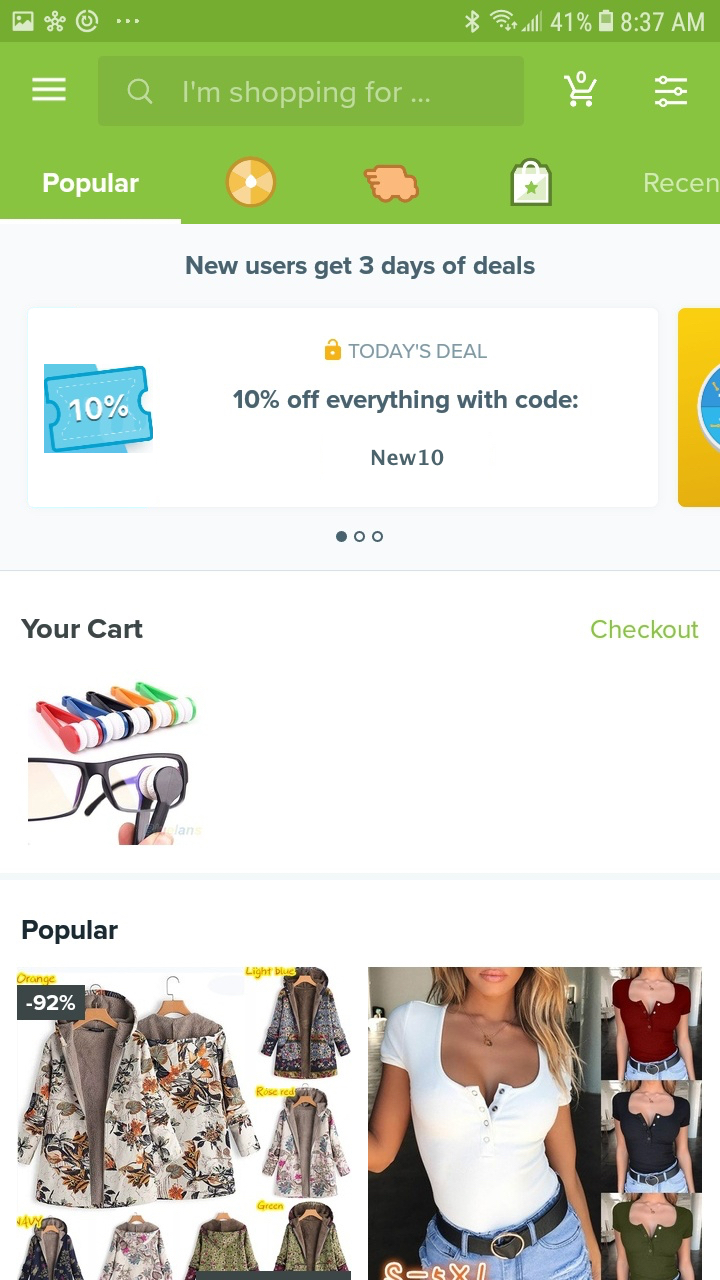EditText: (99, 57, 525, 128)
Icon: (510, 158, 553, 207), (563, 71, 598, 109), (654, 76, 688, 109), (32, 78, 67, 103), (128, 79, 154, 106), (325, 339, 342, 361)
Image: (17, 967, 352, 1280), (368, 967, 703, 1280), (29, 681, 203, 846), (45, 364, 154, 454), (677, 308, 720, 508), (226, 157, 277, 209), (364, 165, 420, 204)
PageIndicator: (336, 531, 384, 543)
Text: (186, 256, 536, 281), (233, 390, 579, 414), (184, 81, 430, 110), (43, 173, 140, 199), (21, 619, 144, 639), (23, 920, 119, 945), (348, 344, 488, 359), (591, 620, 699, 639), (644, 173, 720, 194), (372, 449, 444, 467)
UpperTaskBar: (1, 1, 720, 43)
